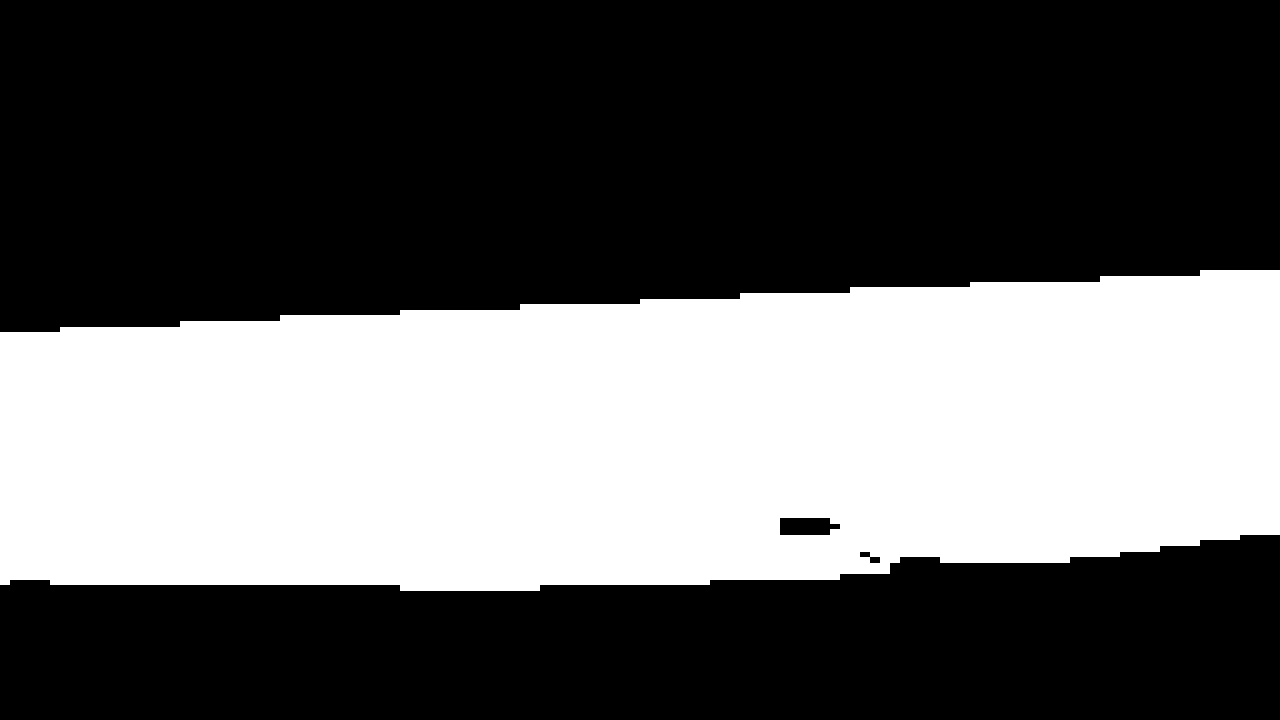Turbine: (8, 248, 1266, 604)
